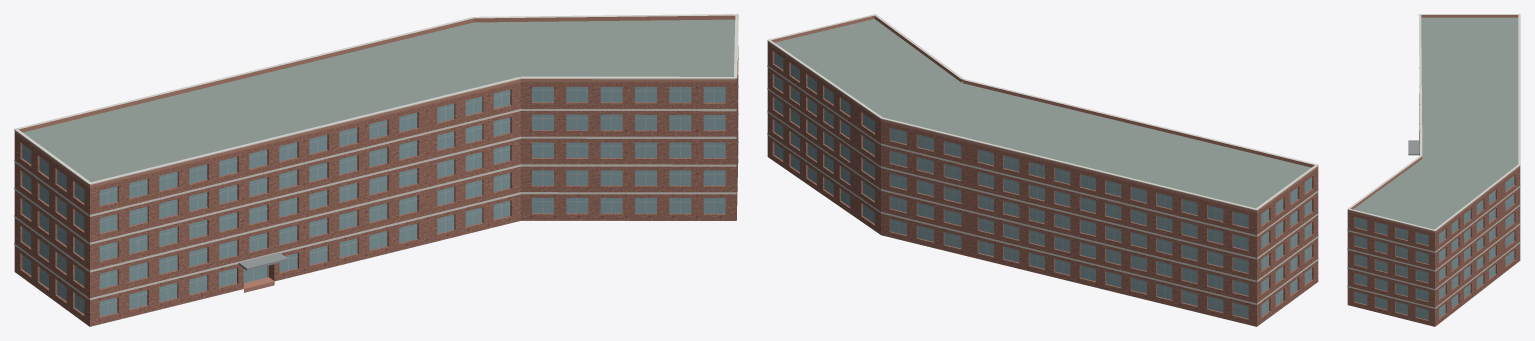
The picture shows the model from 3 angles, left to right: view 1: azimuth 30°, elevation 25°; view 2: azimuth 150°, elevation 25°; view 3: azimuth 270°, elevation 25°; orthographic projection. The views are drawn at different scales.
Visible parts, largest first — view 1: yongji__wall, yongji__roof, yongji__glass, yongji__trim, yongji__parapet, yongji__frame; view 2: yongji__wall, yongji__roof, yongji__glass, yongji__trim, yongji__parapet, yongji__frame; view 3: yongji__roof, yongji__wall, yongji__glass, yongji__trim, yongji__parapet, yongji__frame, yongji__canopy.
Part boxes in pixels (<box>): yongji__wall: <box>14,47,738,326</box>; yongji__roof: <box>18,19,735,326</box>; yongji__glass: <box>22,87,725,316</box>; yongji__trim: <box>14,14,738,300</box>; yongji__parapet: <box>14,15,736,187</box>; yongji__frame: <box>22,87,725,314</box>; yongji__wall: <box>767,43,1318,326</box>; yongji__roof: <box>769,19,1317,326</box>; yongji__glass: <box>774,52,1311,318</box>; yongji__trim: <box>767,14,1318,304</box>; yongji__parapet: <box>767,15,1318,212</box>; yongji__frame: <box>774,54,1312,316</box>; yongji__roof: <box>1353,17,1518,326</box>; yongji__wall: <box>1347,94,1520,326</box>; yongji__glass: <box>1355,175,1514,319</box>; yongji__trim: <box>1347,14,1520,308</box>; yongji__parapet: <box>1347,15,1520,233</box>; yongji__frame: <box>1355,177,1514,318</box>; yongji__canopy: <box>1408,140,1419,155</box>.
Bounding box in the file's own units: 77.31 × 16.35 × 26.11.
9 materials, 1 textured.
